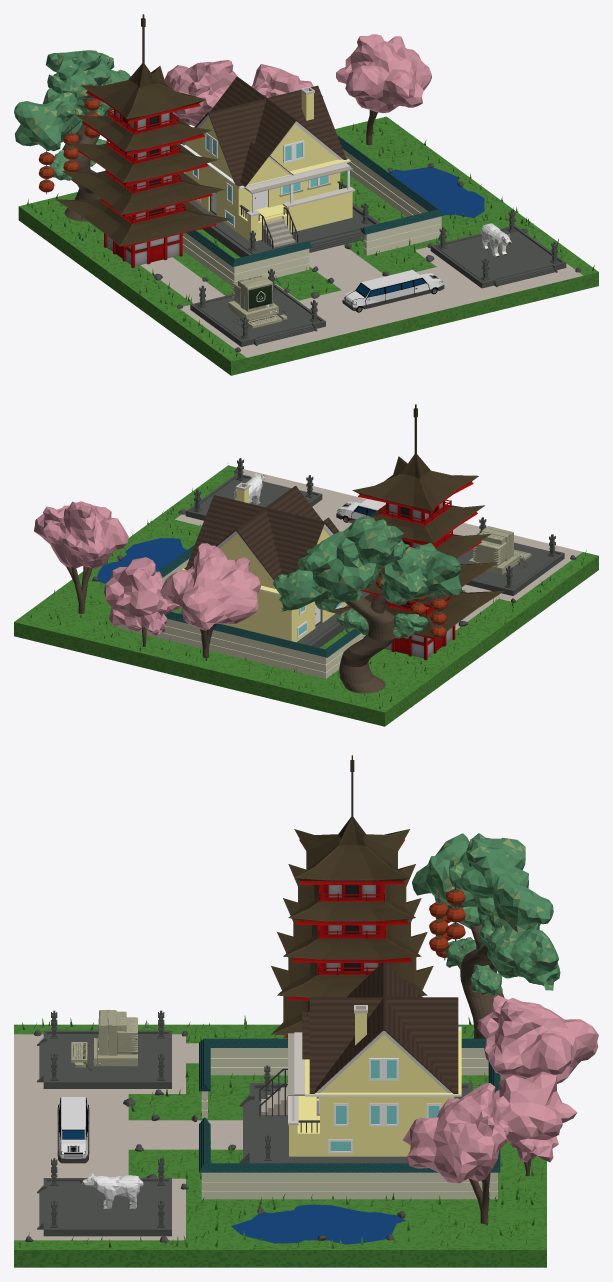
The picture shows the model from 3 angles, top to bottom: view 1: azimuth 30°, elevation 25°; view 2: azimuth 150°, elevation 25°; view 3: azimuth 270°, elevation 25°; orthographic projection. The views are drawn at different scales.
Visible parts, largest first — view 1: Cube.005, Cube.1555, VEHICLES_LIMOUSINE, OBJRANDOM_RETRO_PC, ANIMAL_OSO_POLAR; view 2: Cube.005, Cube.1555, OBJRANDOM_RETRO_PC, VEHICLES_LIMOUSINE; view 3: Cube.005, Cube.1555, OBJRANDOM_RETRO_PC, VEHICLES_LIMOUSINE, ANIMAL_OSO_POLAR.
Boxes of the visible parts, box(x1,y1,x2,y2) form: Cube.005: box(14, 14, 598, 375); Cube.1555: box(179, 76, 355, 248); VEHICLES_LIMOUSINE: box(342, 270, 444, 312); OBJRANDOM_RETRO_PC: box(228, 275, 287, 328); ANIMAL_OSO_POLAR: box(481, 223, 511, 257); Cube.005: box(14, 404, 598, 726); Cube.1555: box(181, 482, 347, 642); OBJRANDOM_RETRO_PC: box(469, 526, 531, 574); VEHICLES_LIMOUSINE: box(336, 499, 385, 522); Cube.005: box(14, 755, 598, 1267); Cube.1555: box(259, 961, 461, 1156); OBJRANDOM_RETRO_PC: box(71, 1010, 137, 1070); VEHICLES_LIMOUSINE: box(57, 1097, 89, 1163); ANIMAL_OSO_POLAR: box(80, 1173, 143, 1208).
Bounding box in the file's own units: 4528 × 2791 × 4389.
Materials: 42 (5 with a texture image).
